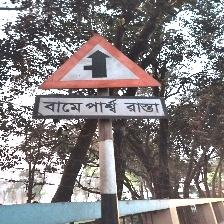Side-road-left: (35, 32, 166, 123)
